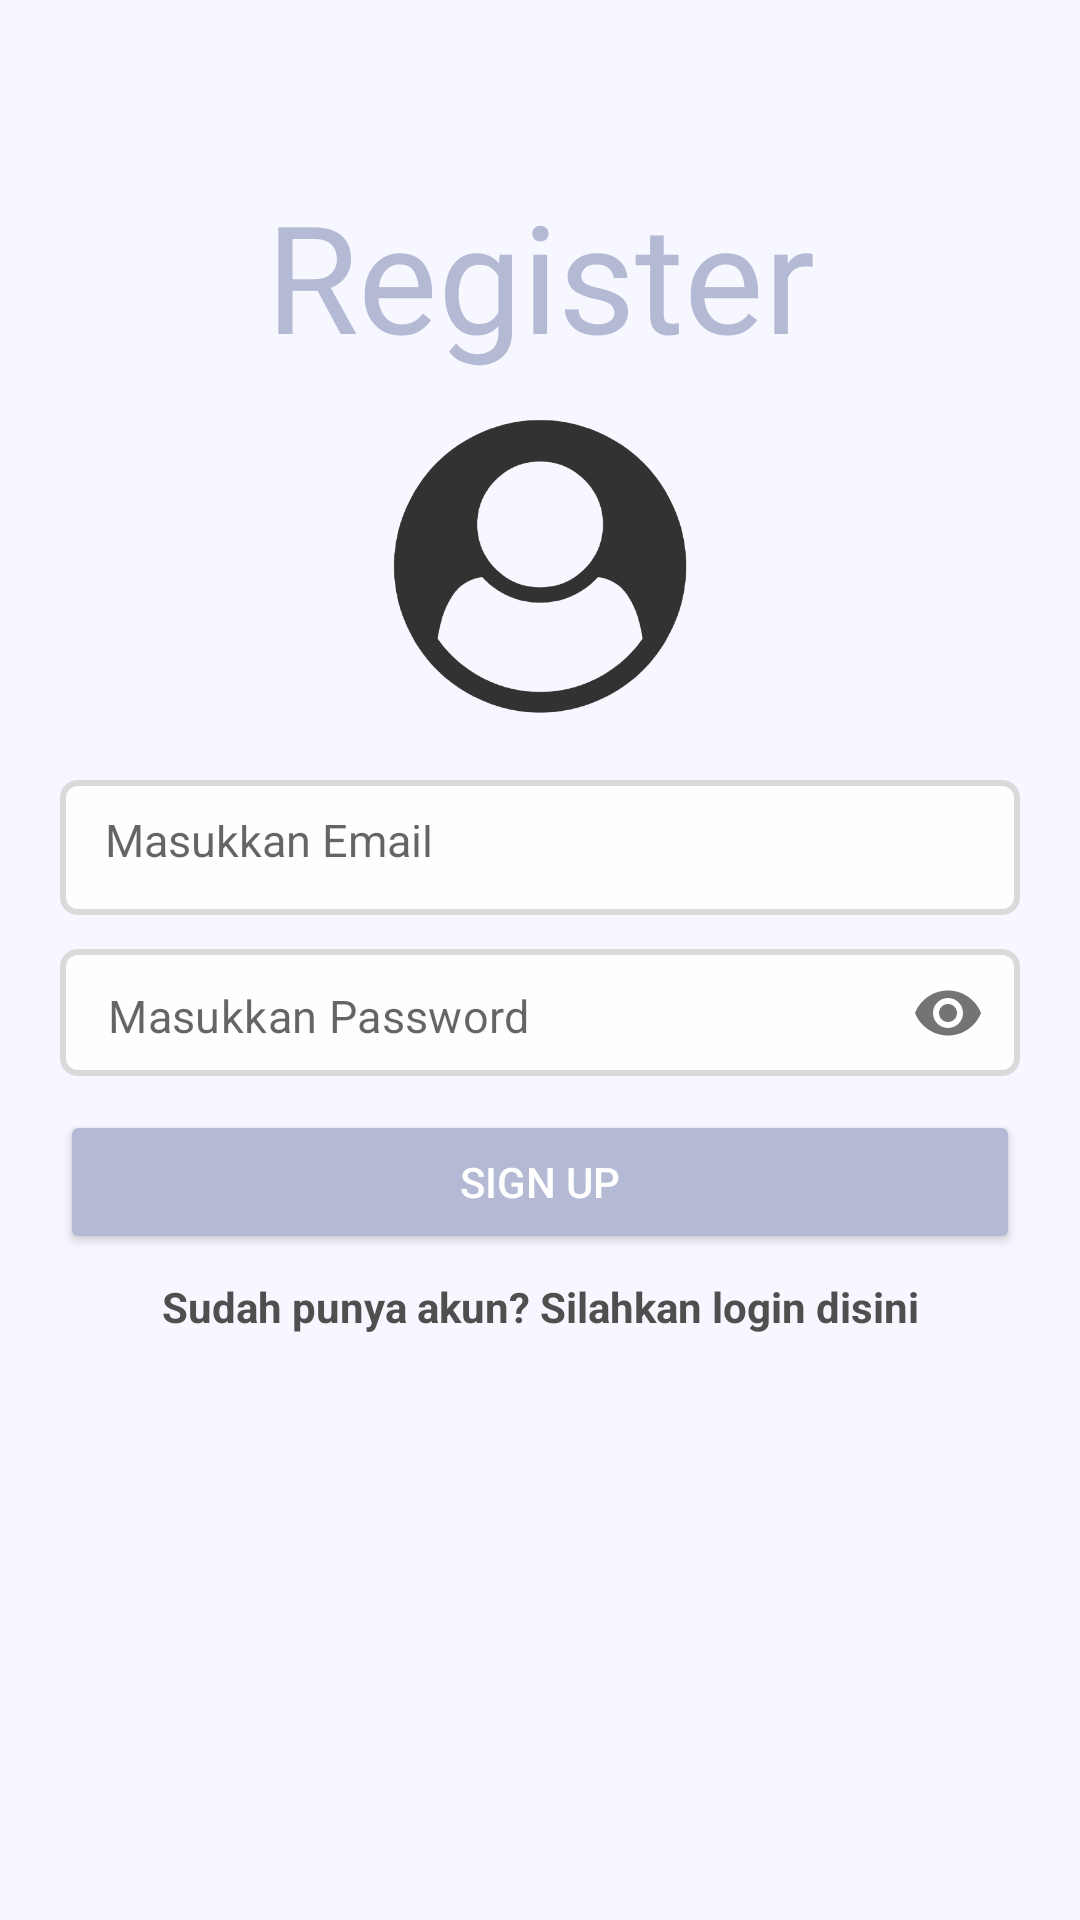

Point at icon controls on the screen. Image size 1080px×1920px, points as point (x, y).
user: point (540, 566)
